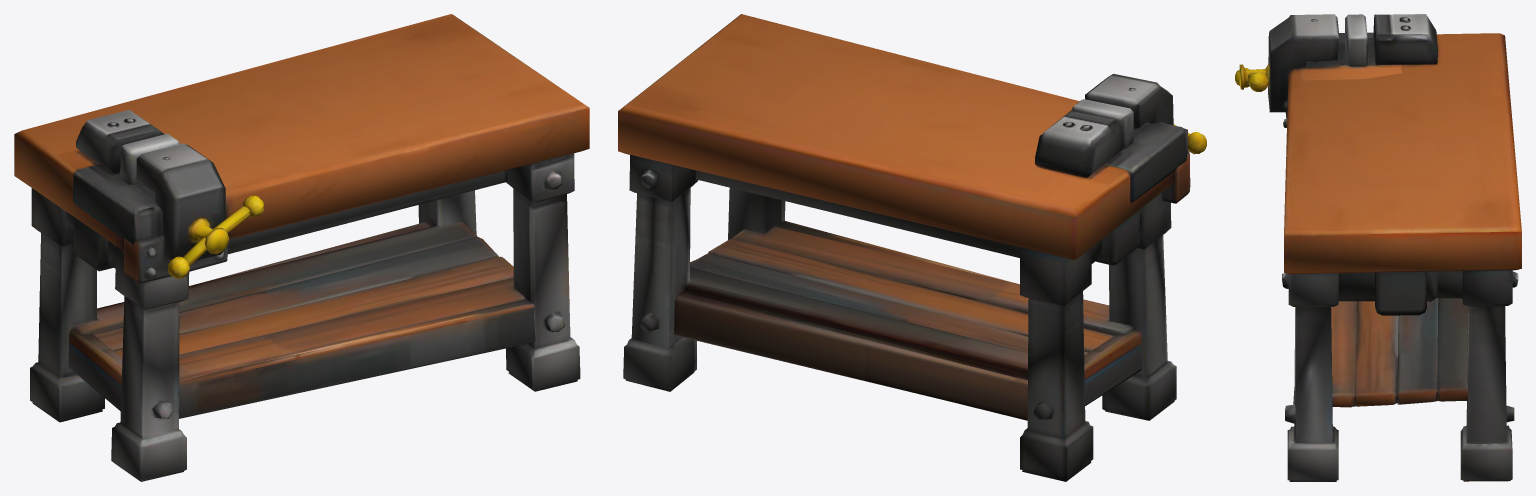
File: wooden-workbench.glb
3 views of the same model, side by side, from view 1: azimuth 30°, elevation 25°; view 2: azimuth 150°, elevation 25°; view 3: azimuth 270°, elevation 25° (orthographic). The views are drawn at different scales.
Visible parts, largest first — view 1: tripo_node_0c5d2049-b709-40f9-bcf1-a11c1a601030; view 2: tripo_node_0c5d2049-b709-40f9-bcf1-a11c1a601030; view 3: tripo_node_0c5d2049-b709-40f9-bcf1-a11c1a601030.
Part boxes in pixels (x1,y1,x2,y2): tripo_node_0c5d2049-b709-40f9-bcf1-a11c1a601030: (14,14,589,481); tripo_node_0c5d2049-b709-40f9-bcf1-a11c1a601030: (618,14,1206,481); tripo_node_0c5d2049-b709-40f9-bcf1-a11c1a601030: (1235,14,1521,481).
Bounding box in the file's own units: 0.998 × 0.6504 × 0.5957.
Materials: 1 (1 with a texture image).
